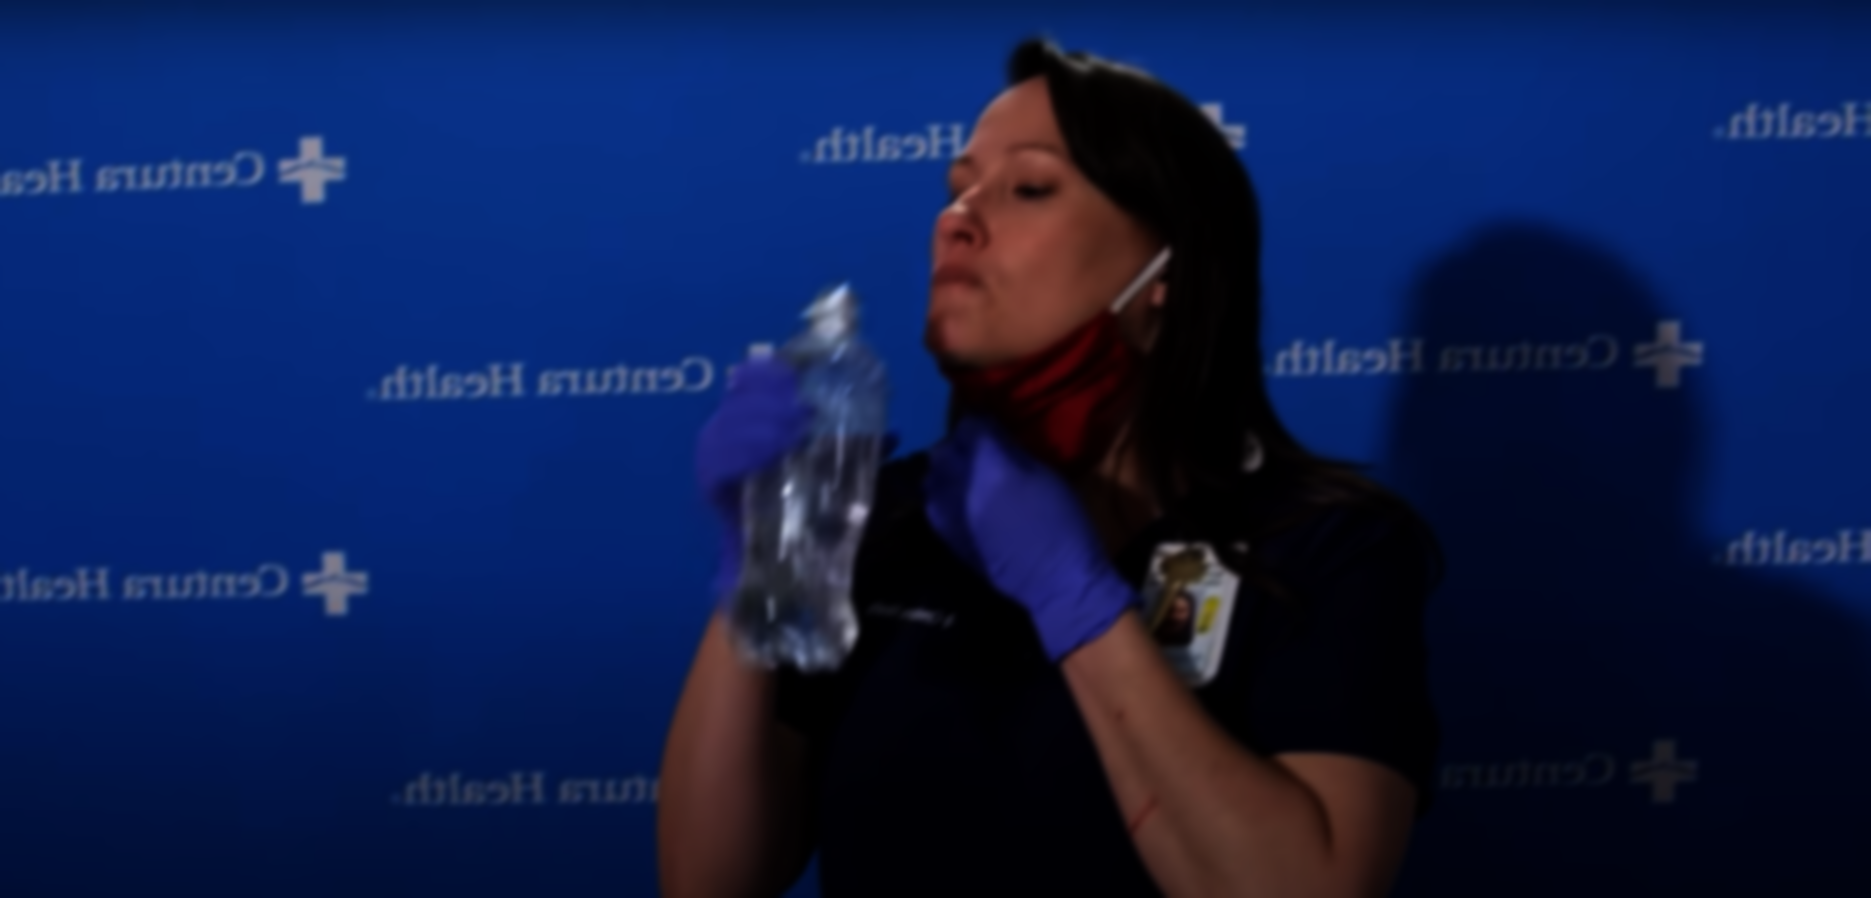mask_weared_incorrect: (924, 40, 1257, 477)
